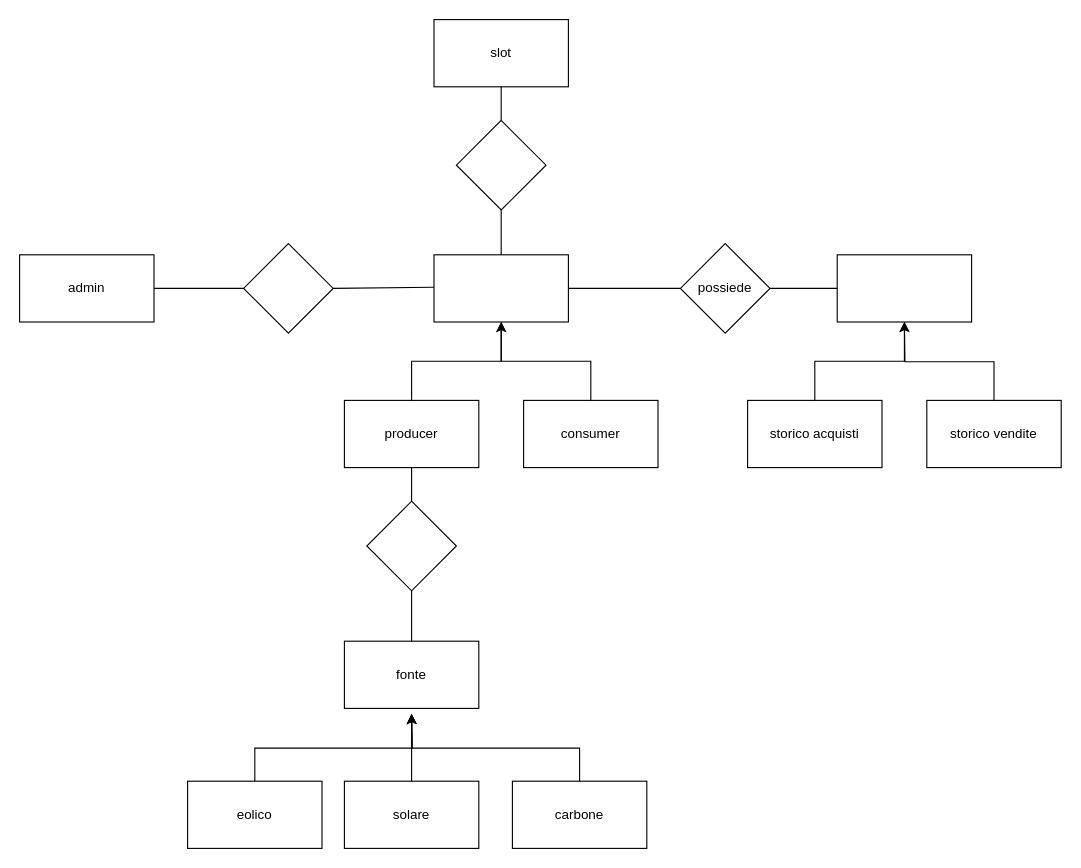
The diagram is 1081 pixels wide and 868 high, and some of its shapes have lost their labels. Here are the shapes that lost their labels. From the top down, the centre of each, then its label:
At [500,164]: "interagisce con".
At [287,287]: "ricarica".
At [500,288]: "utente".
At [904,288]: "storico".
At [411,545]: "produce da".
